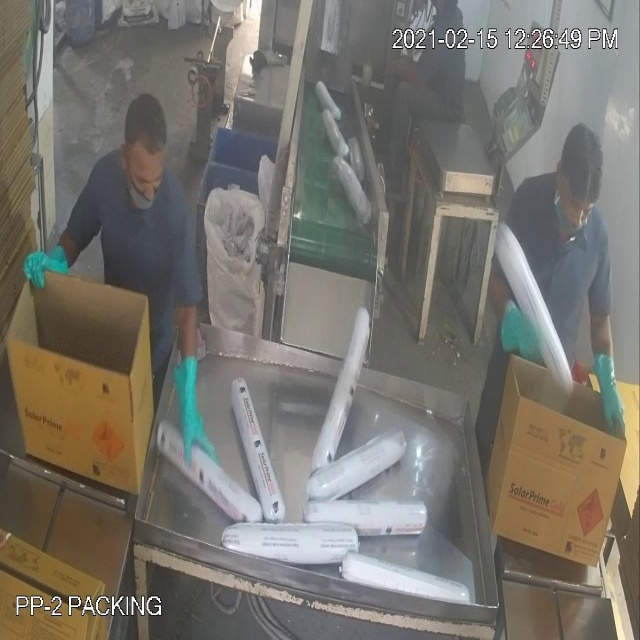Guantes: (165, 332, 216, 464), (20, 234, 86, 312), (588, 328, 627, 440), (495, 292, 546, 365)
Sin_guantes: (381, 49, 437, 105)
